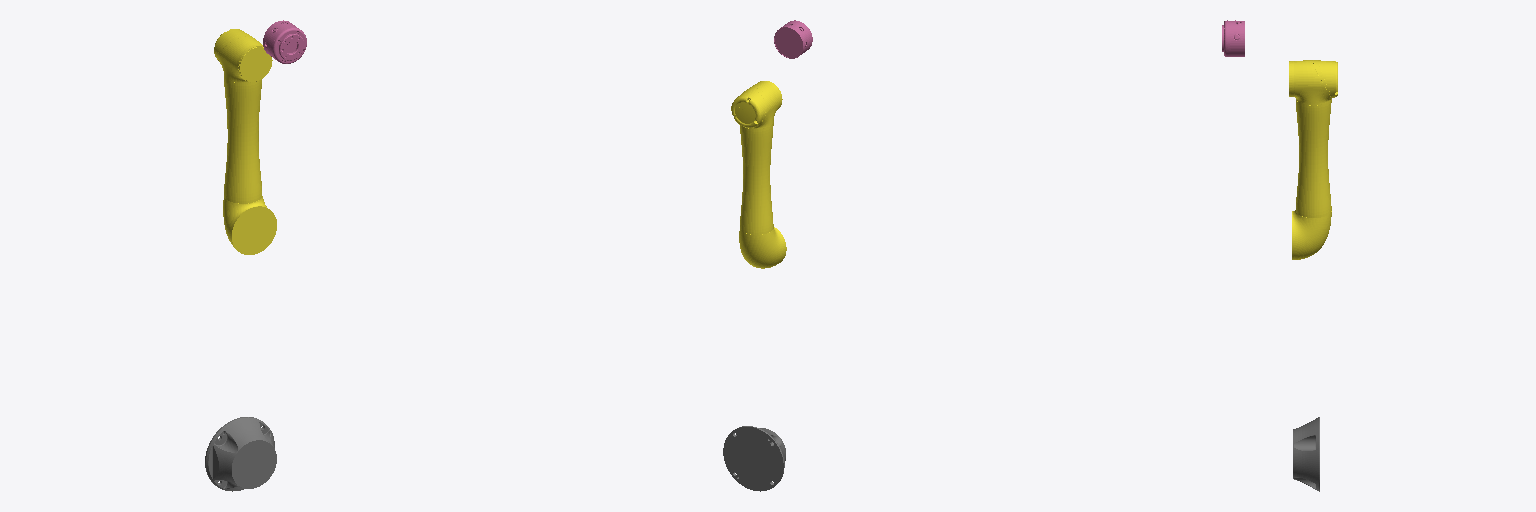
robot.urdf — tm5x_900:
<?xml version="1.0" ?>
<robot name="tm5x_900">
<!--
    <link name="">
        <visual>
            <geometry>
                <mesh filename="" />
            </geometry>
            <material name="Black">
                <color rgba="1.0 1.0 1.0 1.0"/>
            </material>
        </visual>
        <collision>
            <geometry>
                <mesh filename="" />
            </geometry>
        </collision>
    </link>

    <joint name="" type="revolute">
        <parent link="" />
        <child link="" />
        <origin  xyz="0 0 0" rpy="0 0 0" />
        <axis xyz="0 0 1" />
        <limit effort="10.0" lower="-3.14" upper="3.14" velocity="1.0" />
    </joint>
-->

    <link name="base_link">
        <visual>
            <geometry>
                <mesh filename="package://tm5_description/meshes/tm5x_900/visual/tm5_base.obj" />
            </geometry>
            <material name="LightGrey">
                <color rgba="0.5 0.5 0.5 1.0"/>
            </material>
        </visual>
        <collision>
            <geometry>
                <mesh filename="package://tm5_description/meshes/tm5x_900/collision/tm5_base_c.STL" />
            </geometry>
        </collision>
    </link>

    <joint name="shoulder_1_joint" type="revolute">
        <parent link="base_link" />
        <child link="shoulder_1_link" />
        <origin xyz="0 0.1452 0" rpy="0 0 0" />
        <axis xyz="0 1 0" />
        <limit effort="10.0" lower="-3.14" upper="3.14" velocity="1.0" />
    </joint>

    <link name="shoulder_1_link">
        <visual>
            <geometry>
                <mesh filename="package://tm5_description/meshes/tm5x_900/visual/tm_400w_01.obj" />
            </geometry>
        </visual>
        <collision>
            <geometry>
                <mesh filename="package://tm5_description/meshes/tm5x_900/collision/tm_400w_01_c.STL" />
            </geometry>
        </collision>
    </link>

    <joint name="shoulder_2_joint" type="revolute">
        <parent link="shoulder_1_link" />
        <child link="arm_1_link" />
        <origin xyz="0 0 0.146" rpy="0 0 0" />
        <axis xyz="0 0 -1" />
        <limit effort="10.0" lower="-3.14" upper="3.14" velocity="1.0" />
    </joint>

    <link name="arm_1_link">
        <visual>
            <geometry>
                <mesh filename="package://tm5_description/meshes/tm5x_900/visual/tm5_900_arm1.obj" />
            </geometry>
        </visual>
        <collision>
            <geometry>
                <mesh filename="package://tm5_description/meshes/tm5x_900/collision/tm5_900_arm1_c.STL" />
            </geometry>
        </collision>
    </link>

    <joint name="elbow_joint" type="revolute">
        <parent link="arm_1_link" />
        <child link="arm_2_link" />
        <origin  xyz="0 0.429 -0.1297" rpy="0 0 0" />
        <axis xyz="0 0 -1" />
        <limit effort="10.0" lower="-3.14" upper="3.14" velocity="1.0" />
    </joint>

    <link name="arm_2_link">
        <visual>
            <geometry>
                <mesh filename="package://tm5_description/meshes/tm5x_900/visual/tm5_900_arm2.obj" />
            </geometry>
        </visual>
        <collision>
            <geometry>
                <mesh filename="package://tm5_description/meshes/tm5x_900/collision/tm5_900_arm2_c.STL" />
            </geometry>
        </collision>
    </link>

    <joint name="wrist_1_joint" type="revolute">
        <parent link="arm_2_link" />
        <child link="wrist_1_link" />
        <origin xyz="0 0.4115 0.106" rpy="0 0 0" />
        <axis xyz="0 0 -1" />
        <limit effort="10.0" lower="-3.14" upper="3.14" velocity="1.0" />
    </joint>

    <link name="wrist_1_link">
        <visual>
            <geometry>
                <mesh filename="package://tm5_description/meshes/tm5x_900/visual/tm_100w_01.obj" />
            </geometry>
        </visual>
        <collision>
            <geometry>
                <mesh filename="package://tm5_description/meshes/tm5x_900/collision/tm_100w_01_c.STL" />
            </geometry>
        </collision>
    </link>

    <joint name="wrist_2_joint" type="revolute">
        <parent link="wrist_1_link" />
        <child link="wrist_2_link" />
        <origin xyz="0 0.106 0" rpy="0 0 0" />
        <axis xyz="0 1 0" />
        <limit effort="10.0" lower="-3.14" upper="3.14" velocity="1.0" />
    </joint>

    <link name="wrist_2_link">
        <visual>
            <geometry>
                <mesh filename="package://tm5_description/meshes/tm5x_900/visual/tm_100w_02.obj" />
            </geometry>
        </visual>
        <collision>
            <geometry>
                <mesh filename="package://tm5_description/meshes/tm5x_900/collision/tm_100w_02_c.stl" />
            </geometry>
        </collision>
    </link>

    <joint name="wrist_3_joint" type="revolute">
        <parent link="wrist_2_link" />
        <child link="wrist_3_link" />
        <origin xyz="0 0 0.11315" rpy="0 0 0" />
        <axis xyz="0 0 1" />
        <limit effort="10.0" lower="-3.14" upper="3.14" velocity="1.0" />
    </joint>

    <link name="wrist_3_link">
        <visual>
            <geometry>
                <mesh filename="package://tm5_description/meshes/tm5x_900/visual/tm5x_ee.obj" />
            </geometry>
        </visual>
        <collision>
            <geometry>
                <mesh filename="package://tm5_description/meshes/tm5x_900/collision/tm5x_ee_c.stl" />
            </geometry>
        </collision>
    </link>

    <link name="base" />
    <joint name="base_fixed_joint" type="fixed">
        <parent link="base" />
        <child link="base_link" />
        <origin xyz="0 0 0" rpy="1.57079632679 0 0" />
    </joint>

    <link name="tool0" />
    <joint name="tool0_fixed_joint" type="fixed">
        <parent link="wrist_3_link"/>
        <child link="tool0"/>
        <origin xyz="0 0 0" rpy="0 0 0"/>
    </joint>
</robot>

--- Render facts (derived) ---
3 views of the same robot in one strip: view 1: azimuth 30°, elevation 25°; view 2: azimuth 150°, elevation 25°; view 3: azimuth 270°, elevation 25° (orthographic).
Robot: tm5x_900 — 9 links, 8 joints (6 revolute, 2 fixed); root link base; default pose: every joint at zero.
Visible links, largest first — view 1: arm_2_link, base_link, wrist_3_link; view 2: arm_2_link, base_link, wrist_3_link; view 3: arm_2_link, base_link, wrist_3_link.
Boxes of the visible links, x1,y1,x2,y2 form: arm_2_link: (214,29,276,254); base_link: (205,417,276,491); wrist_3_link: (263,20,306,63); arm_2_link: (731,81,786,268); base_link: (723,426,785,491); wrist_3_link: (774,20,812,58); arm_2_link: (1289,60,1337,259); base_link: (1293,417,1319,491); wrist_3_link: (1222,20,1244,56).
Size in the robot's own frame: 0.177 by 0.2783 by 1.22 metres.
Meshes: 7 distinct files referenced, 3 mesh visuals loaded (3 OBJ); not drawn: 4 (reference not matched to a file when rendering).